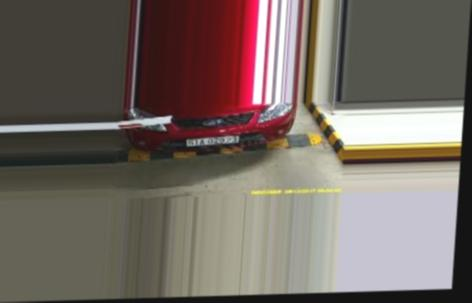License_Plate: (185, 133, 240, 149)
